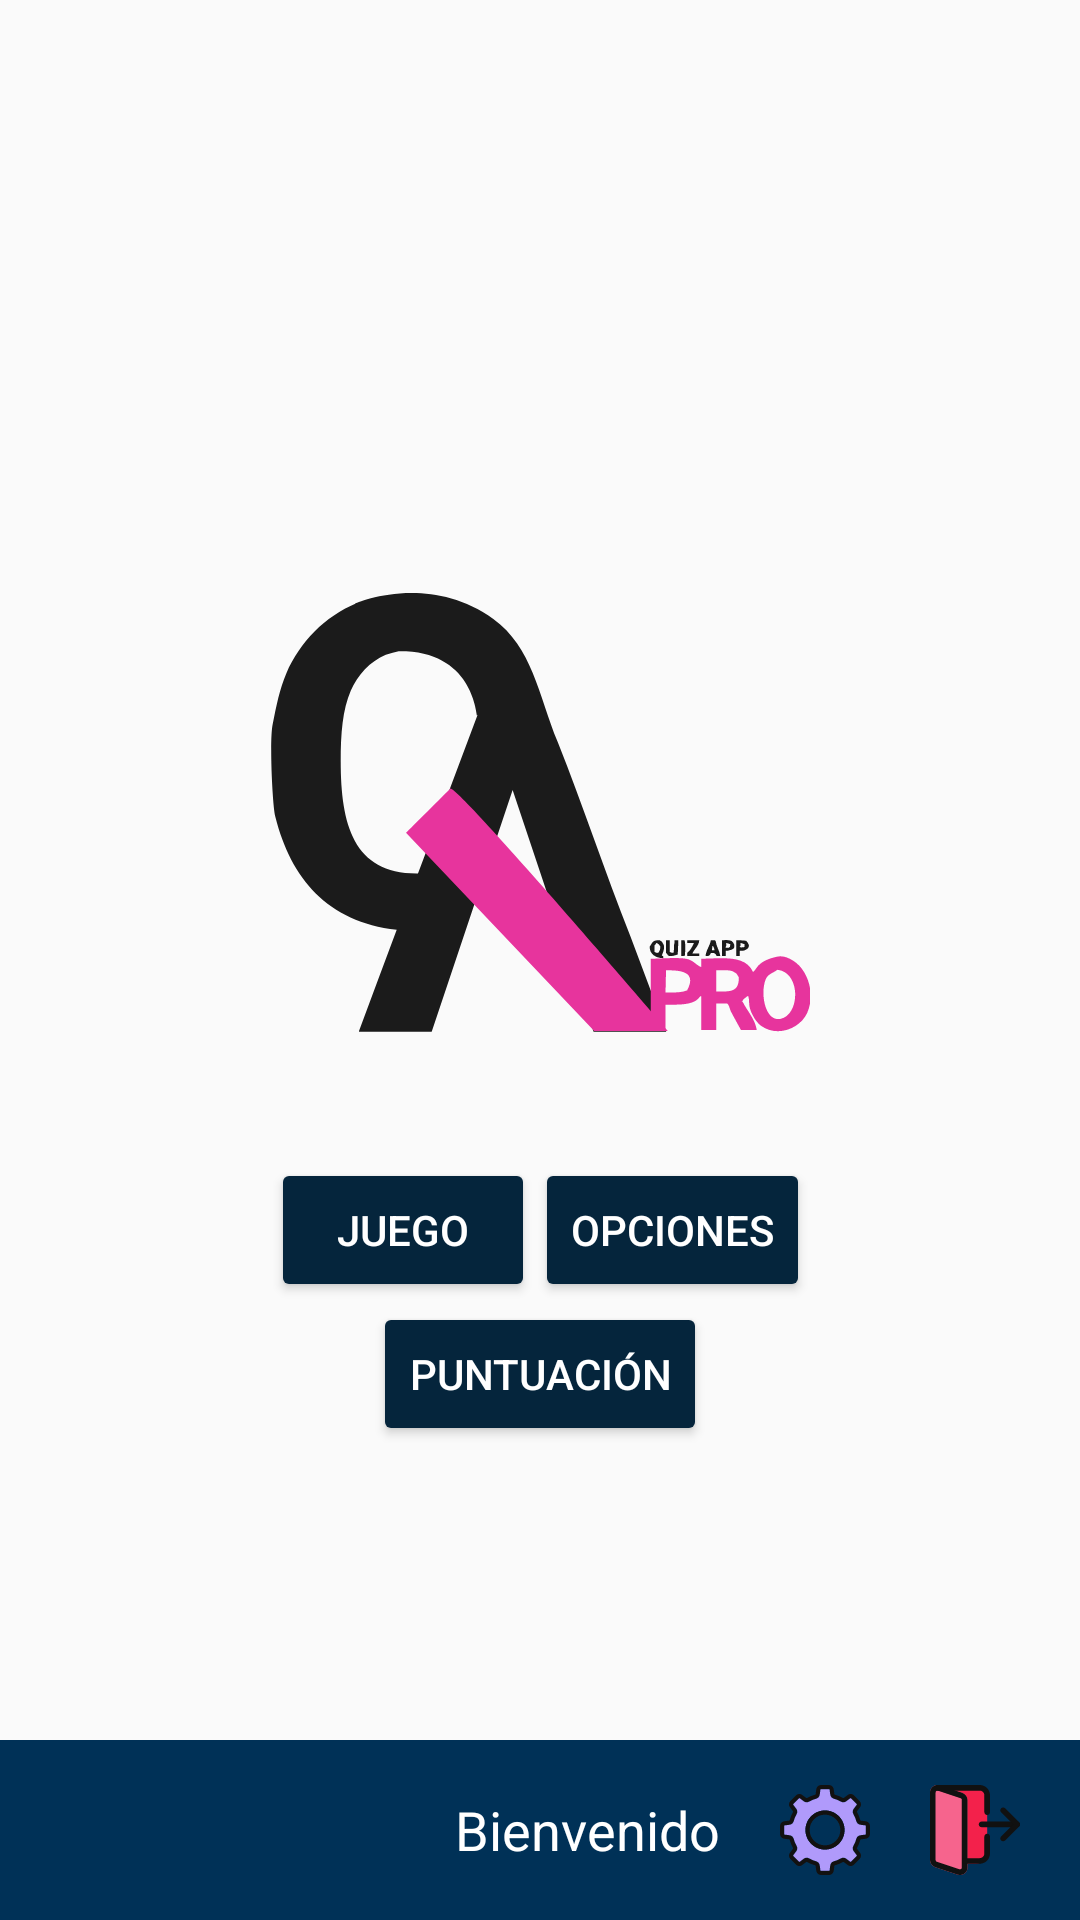

Icons on this 1080w x 1920h Android screen, each with the point to tap as [x,y]:
settings: [825,1830]
